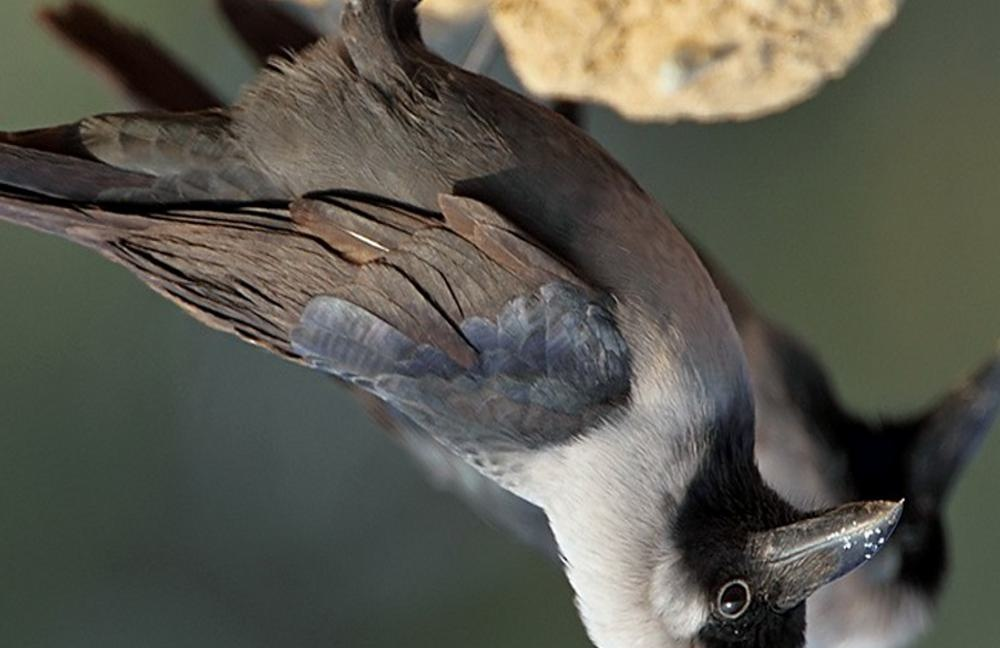crow: (1, 1, 894, 644)
